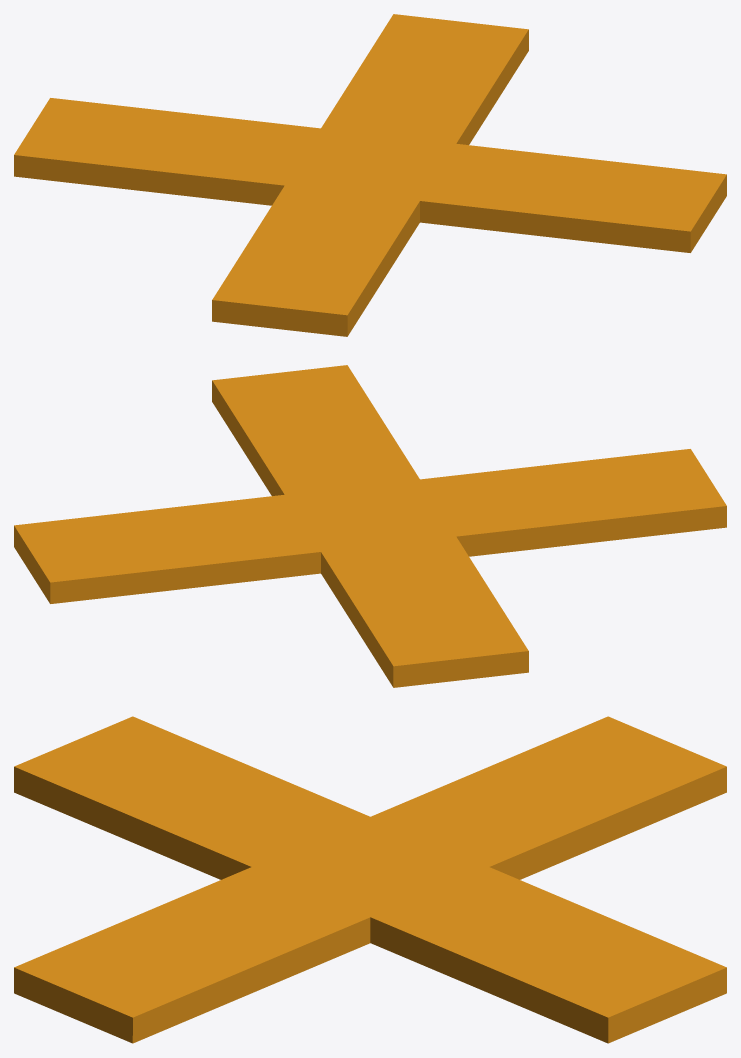
The model's file is TicTacToe_X.fbx.
3 views of the same model, one above another, from view 1: azimuth 30°, elevation 25°; view 2: azimuth 150°, elevation 25°; view 3: azimuth 270°, elevation 25° (orthographic). The views are drawn at different scales.
Visible parts, largest first — view 1: X_Object; view 2: X_Object; view 3: X_Object.
Part boxes in pixels (x1,y1,x2,y2): X_Object: (14,14,726,336); X_Object: (14,365,726,687); X_Object: (14,716,726,1043).
Size of the model in its own units: 849 by 34.05 by 849.
